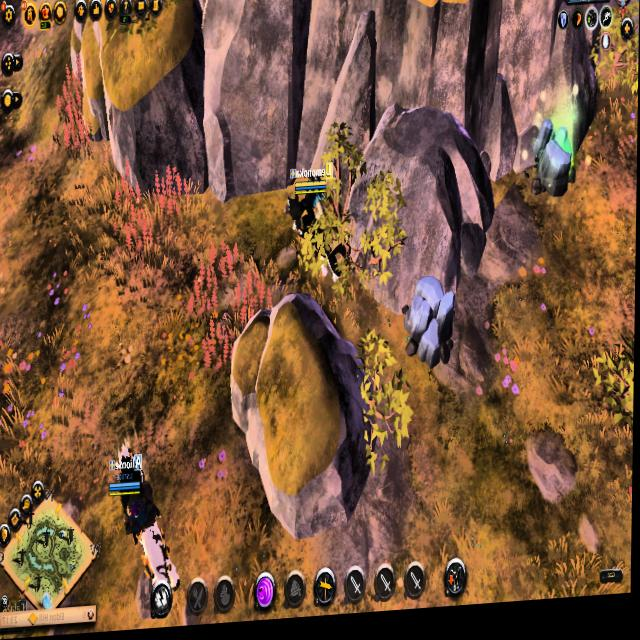rock tier 4: (401, 278, 462, 380), (528, 121, 579, 211)
